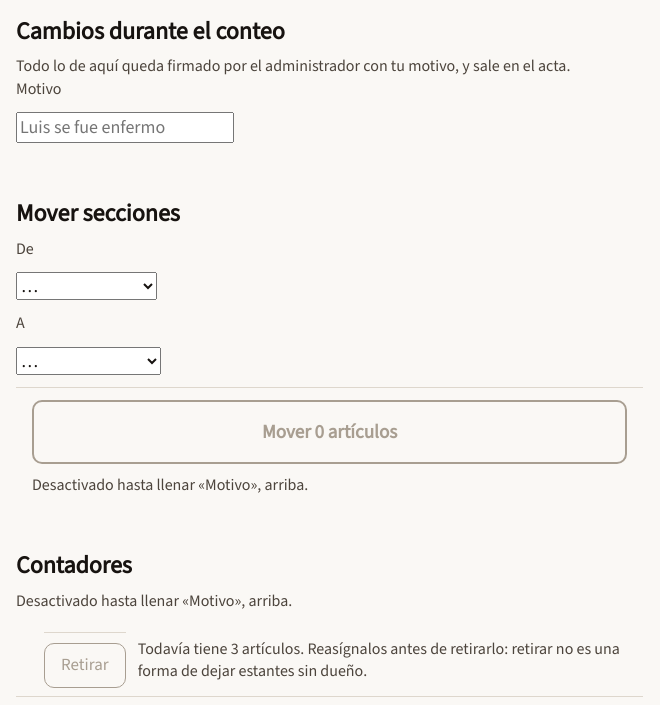
retirement and the seal › offers «sellar sin sus registros» only for a retired counter with a hole
This screenshot has width=660, height=705.
Type "la tableta no volvió" into the field labelled "Motivo".
click(125, 128); type("la tableta no volvió")  # box [16, 112, 234, 143]
(page scrolled)
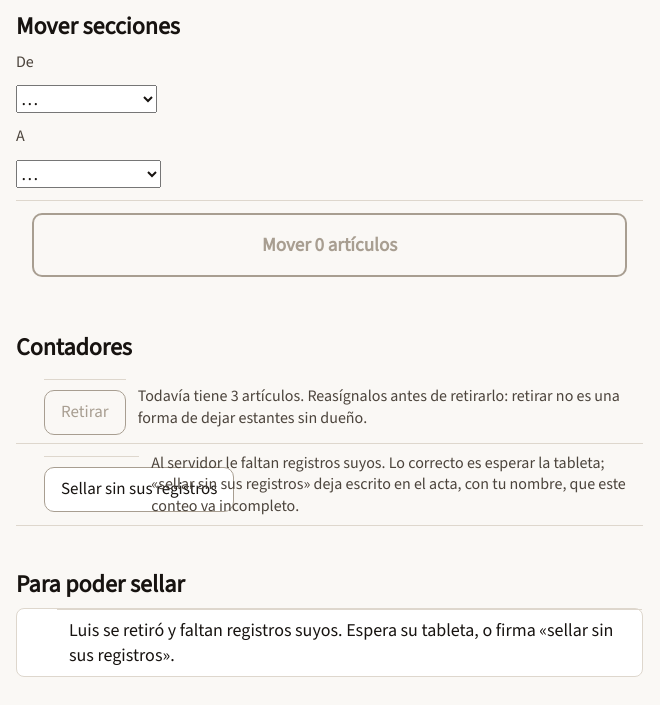
Expected: the text "«sellar sin sus registros» deja escrito en el acta" is shown, [151, 452, 626, 516]
Expected: the button with aria-label "sellar sin los registros de Luis" is enabled, [44, 467, 234, 512]
